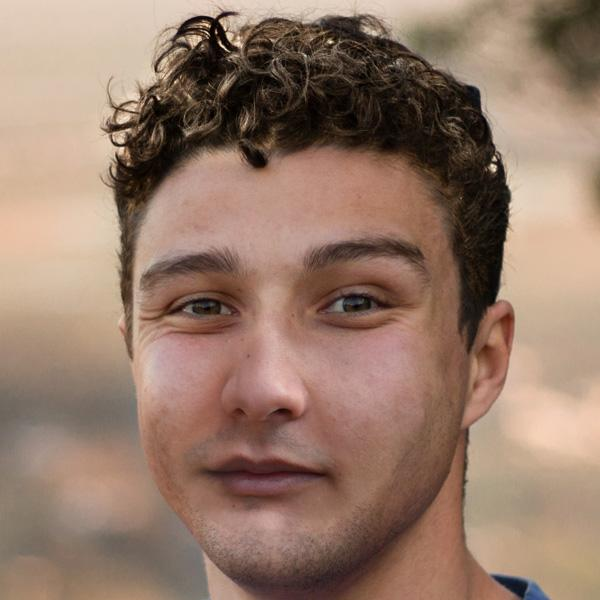Eyes: (299, 269, 408, 336), (148, 278, 251, 339)
